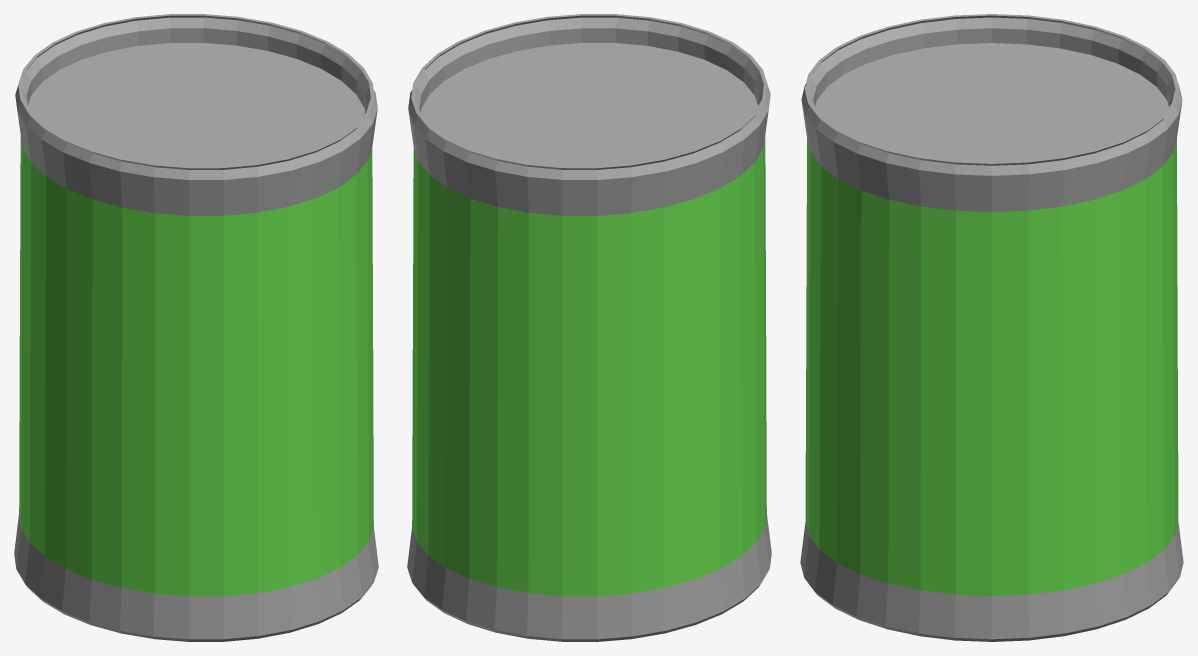
The model's file is Lata_Botella.fbx.
3 views of the same model, side by side, from view 1: azimuth 30°, elevation 25°; view 2: azimuth 150°, elevation 25°; view 3: azimuth 270°, elevation 25° (orthographic).
Parts seen in each view (by area): view 1: LataLarga; view 2: LataLarga; view 3: LataLarga.
Part boxes in pixels (x1,y1,x2,y2): LataLarga: [14, 14, 378, 641]; LataLarga: [407, 14, 771, 641]; LataLarga: [800, 14, 1183, 641].
Size of the model in its own units: 142 by 205 by 149.
